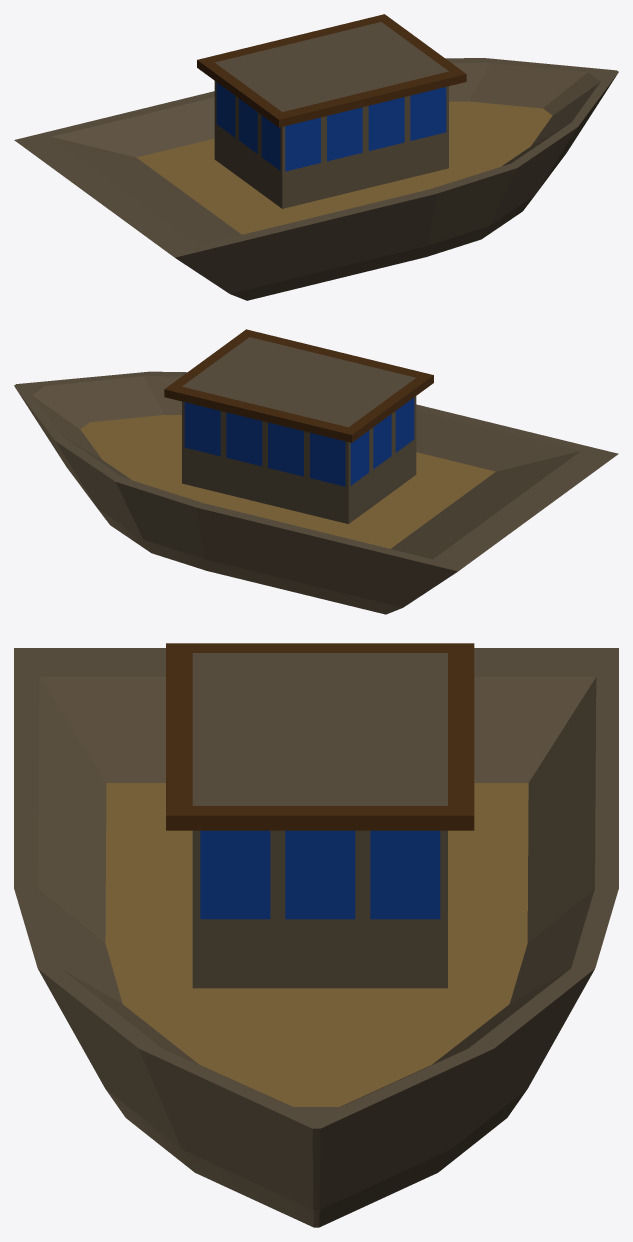
File: boat1.FBX
3 renders of one model, top to bottom at view 1: azimuth 30°, elevation 25°; view 2: azimuth 150°, elevation 25°; view 3: azimuth 270°, elevation 25°, orthographic. The views are drawn at different scales.
Parts seen in each view (by area): view 1: boat1; view 2: boat1; view 3: boat1.
Part boxes in pixels (<box>): boat1: <box>14,14,618,300</box>; boat1: <box>14,329,618,614</box>; boat1: <box>14,643,618,1227</box>.
Size of the model in its own units: 8.02 by 2.32 by 4.26.
